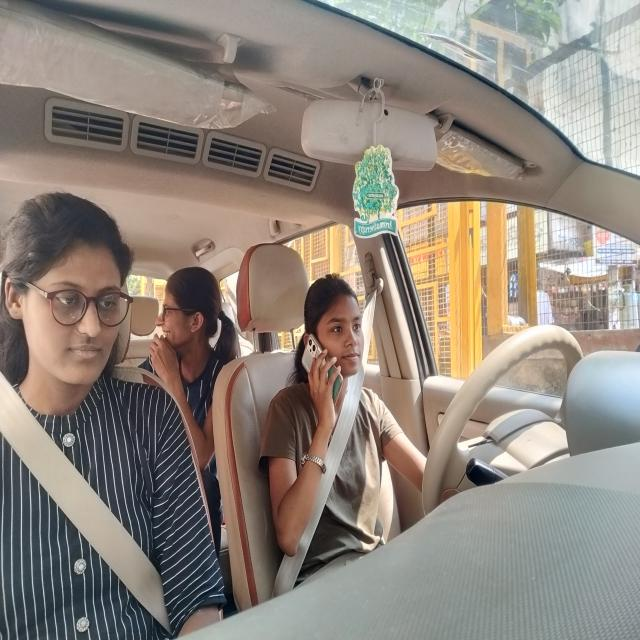mobile: (299, 334, 347, 408)
person: (6, 198, 127, 399), (302, 268, 373, 383), (151, 270, 217, 354)
